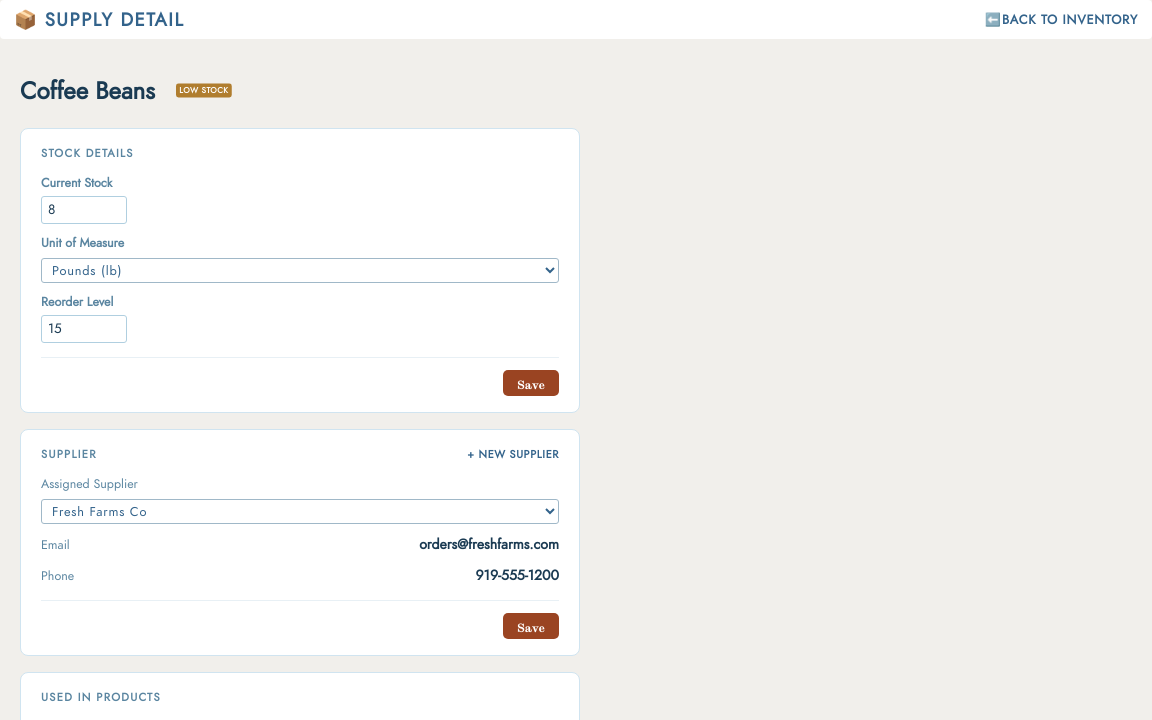
Test: AdminInventoryDetailPage › changes assigned supplier and saves
The width and height of the screenshot is (1152, 720).
Expected: the heading "Coffee Beans" is shown, [20,73,155,108]
Select "Triangle Produce" in the dropdown below "Assigned Supplier" at (300, 512), box [41,499,559,524]
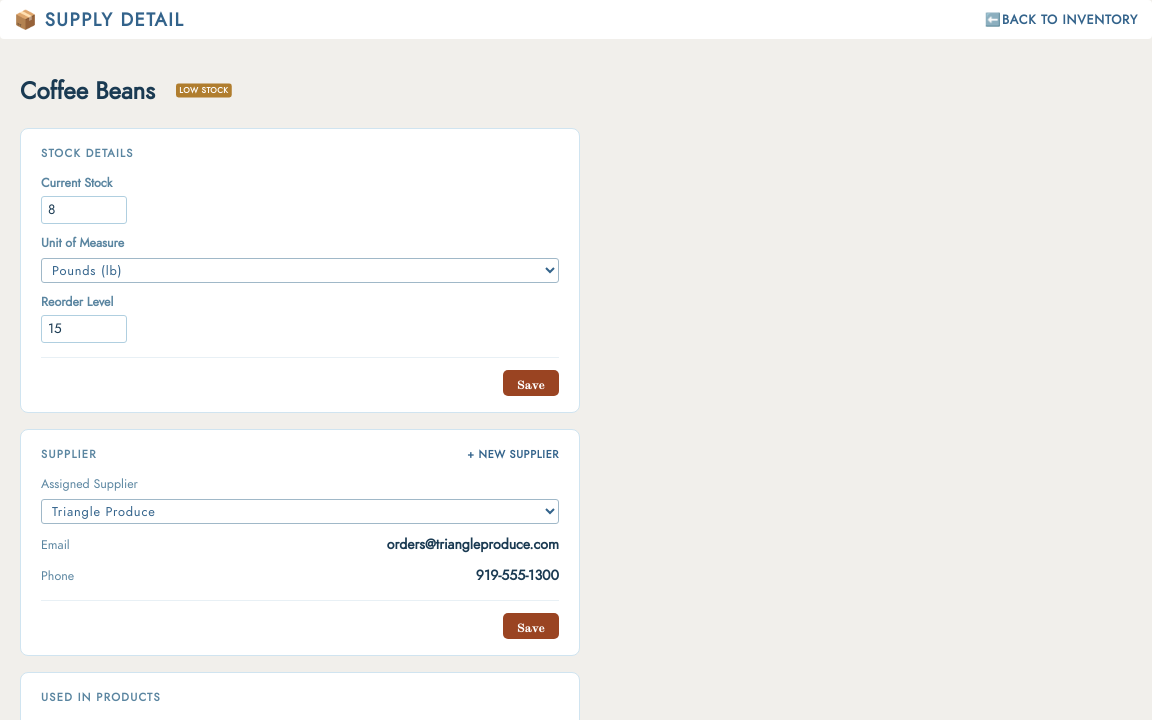
Click the button "Save" below "919-555-1300" at (531, 626), box [503,613,559,639]
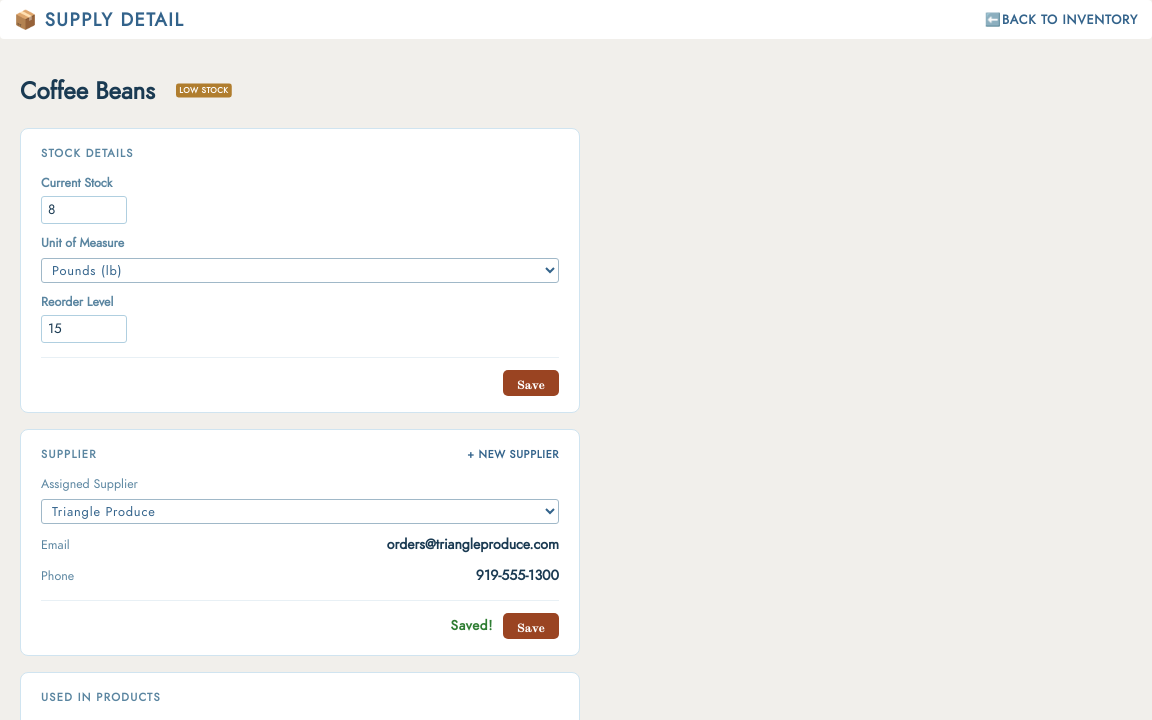
Expected: the text "Saved!" is shown, [450,616,493,636]
